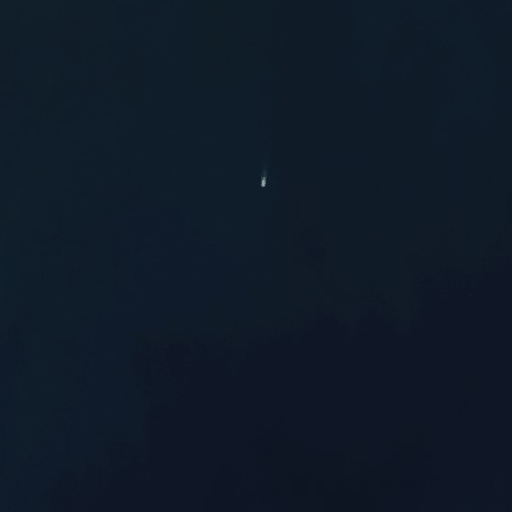ship: (258, 170, 269, 190)
